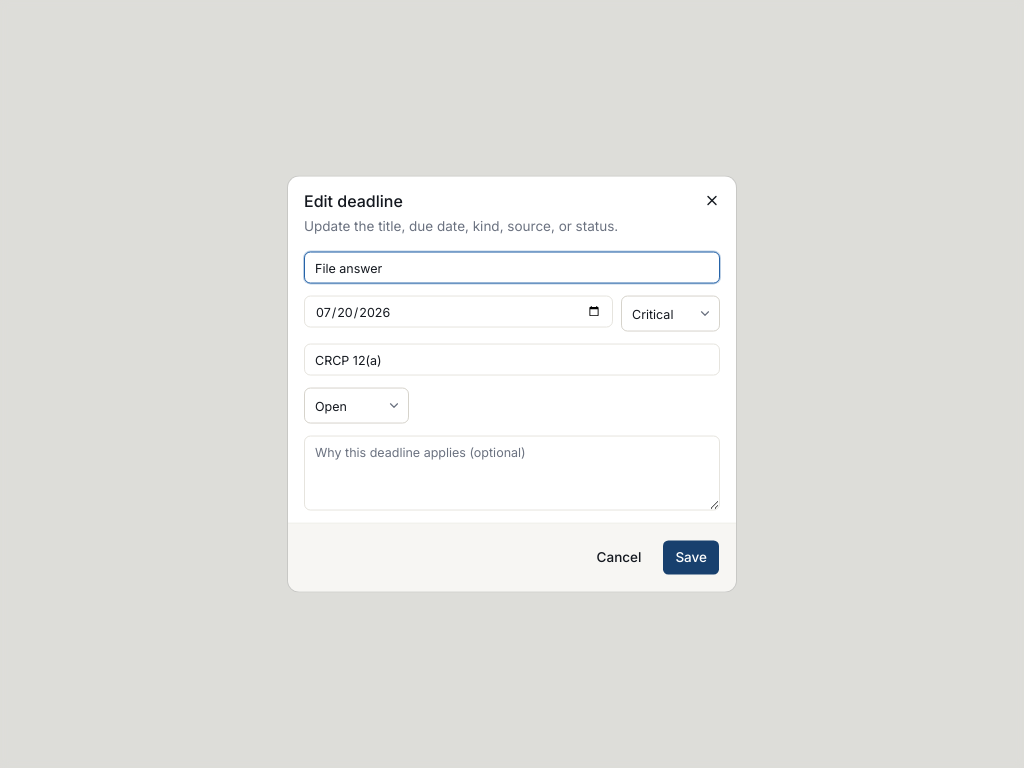
EditDeadlineDialog - keeps what the user typed › shows a stale-version error from the server
Click the button "Save" at (691, 558), box [662,540,720,576]
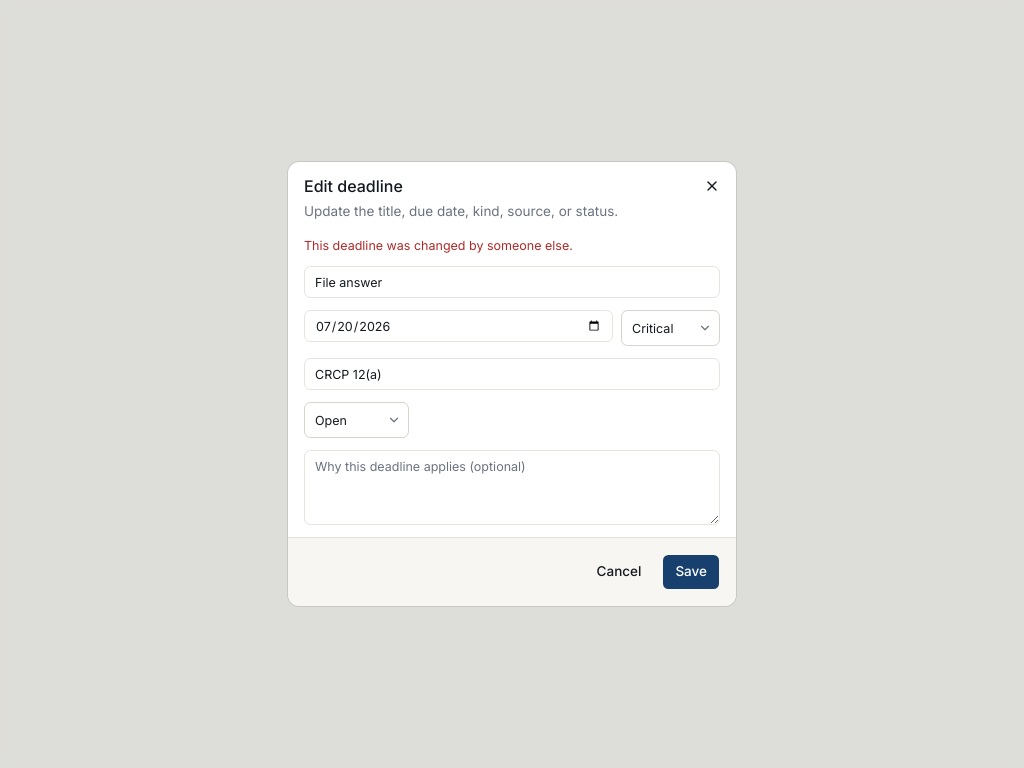
Now the text "This deadline was changed by someone else." is shown, box [304,238,573,253]
